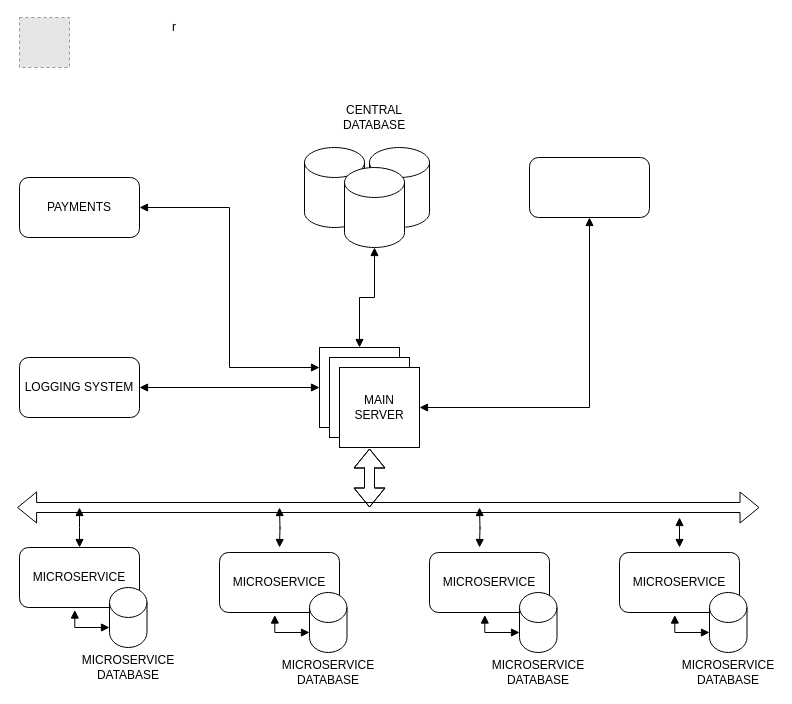
Image size: 792x704. Some labels were removed from this diagram. Grey dashed boxes stand in for pictures. Each missing label, with the centre of its shape:
"AUTHENTICATION" belongs at [589,187].
"Text" belongs at [374,207].
